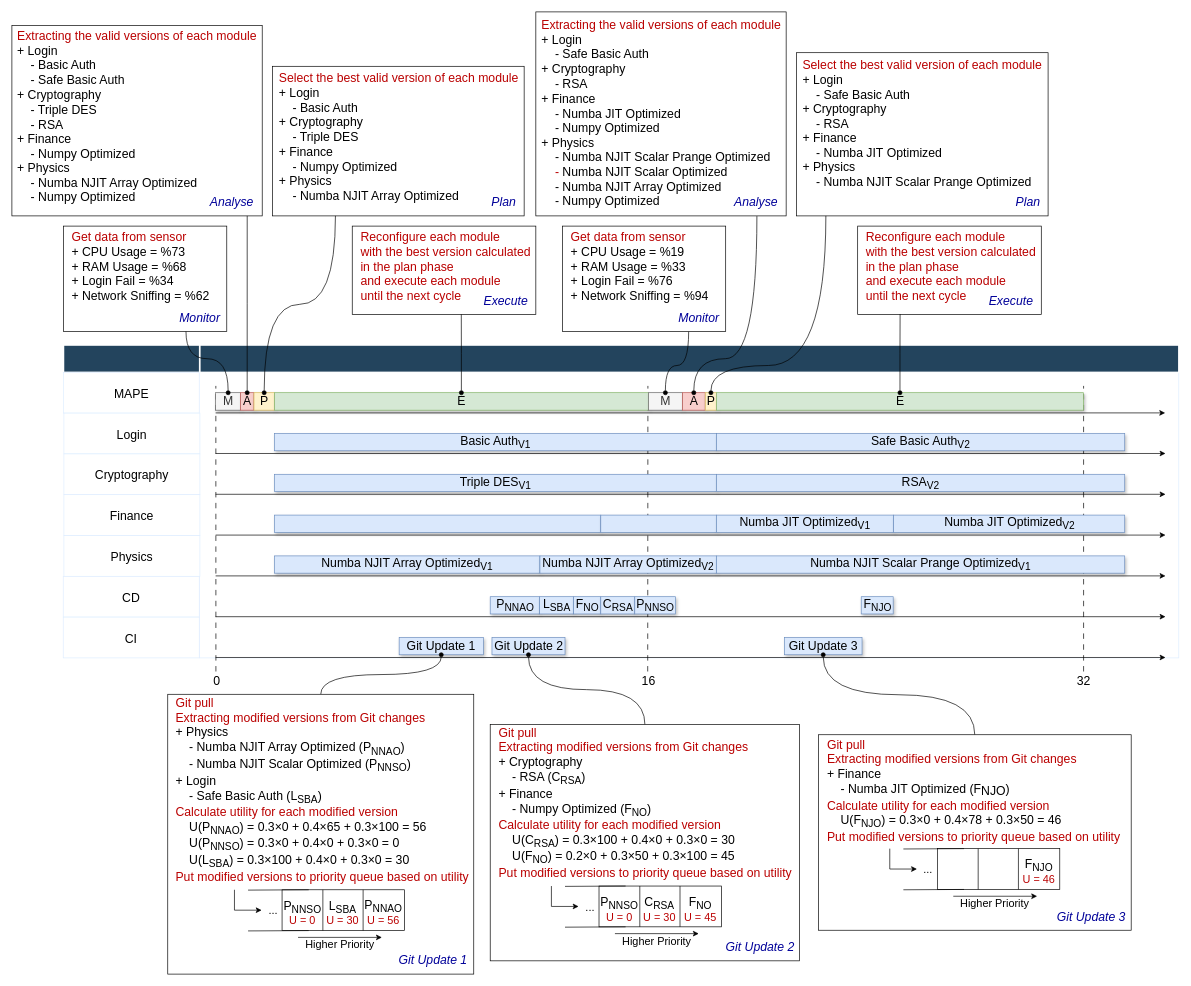
Some shapes in this 1191 by 986 pixel diagram are drawn without their labels. Each missing label, with the centre of its shape:
Numpy Optimized V1: (438,524)
Numpy Optimized V2: (658,524)
Pipeline: (131,358)
Schedule Chart: (689,358)
